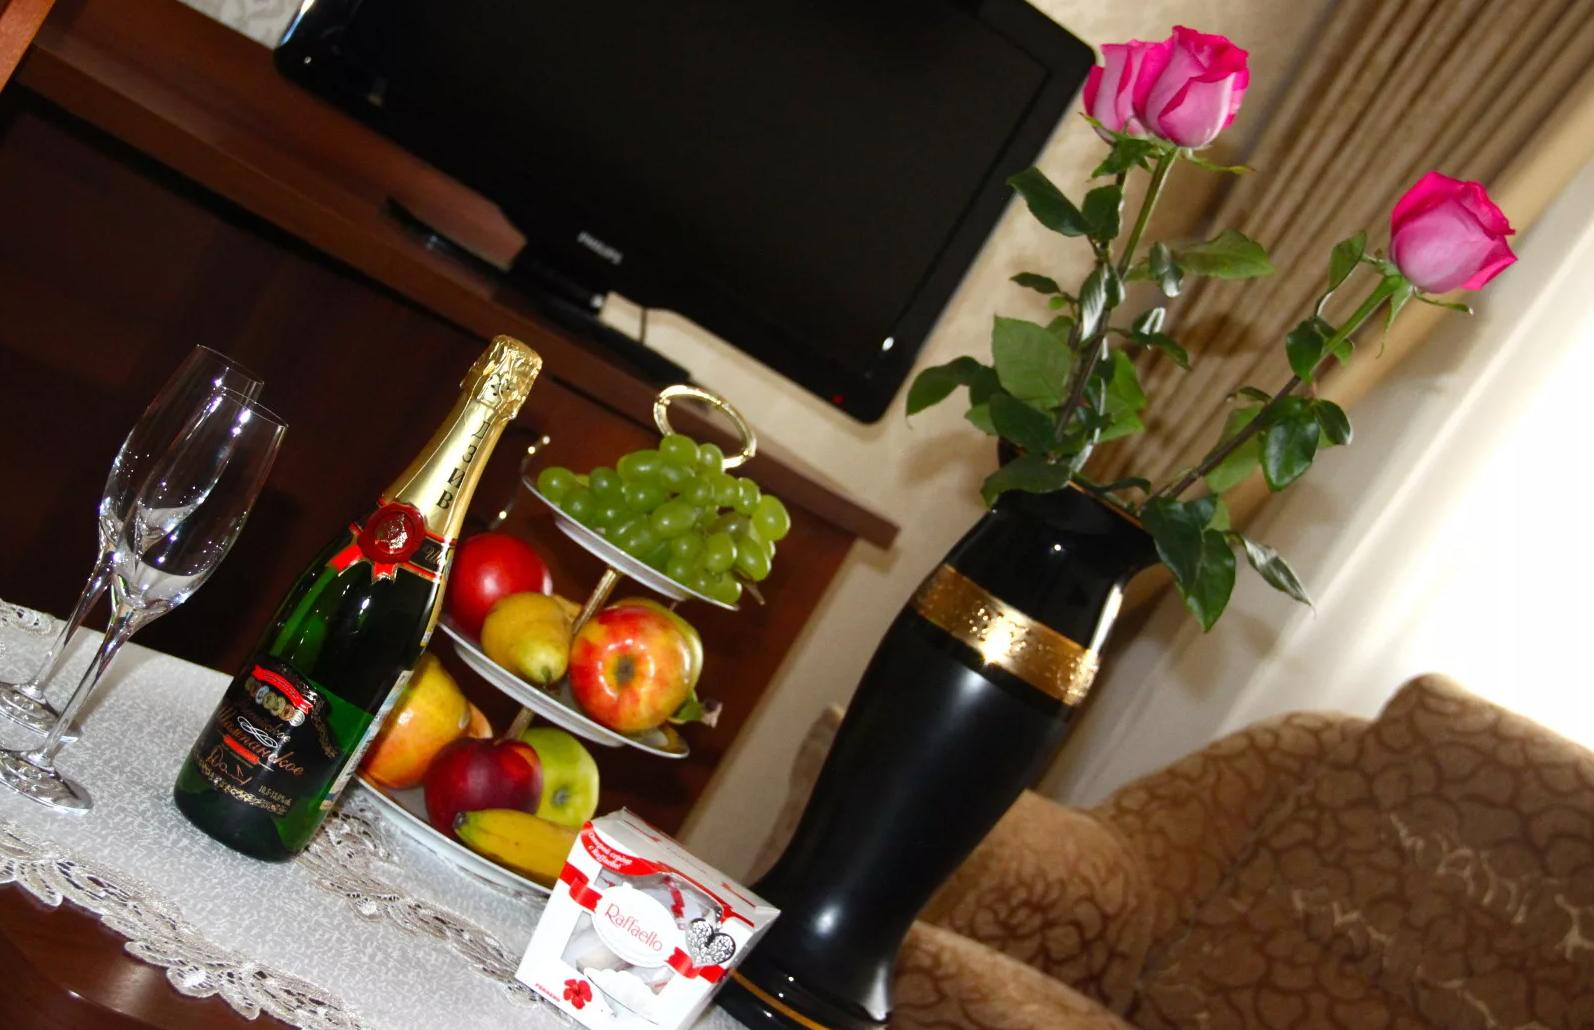wine bottle: (172, 334, 543, 865)
wine label: (192, 650, 340, 820)
